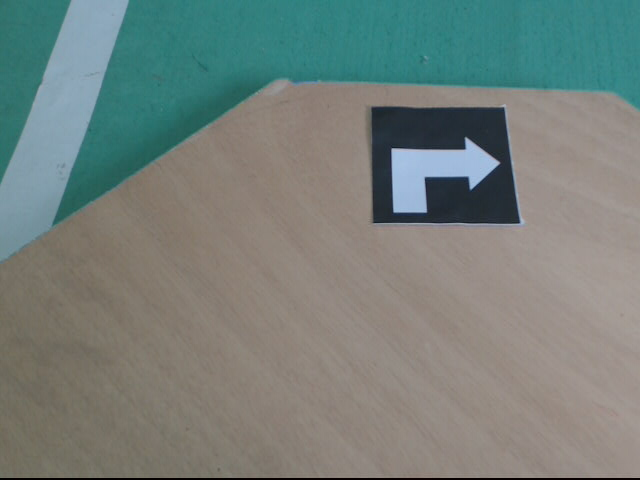right: (371, 107, 523, 225)
